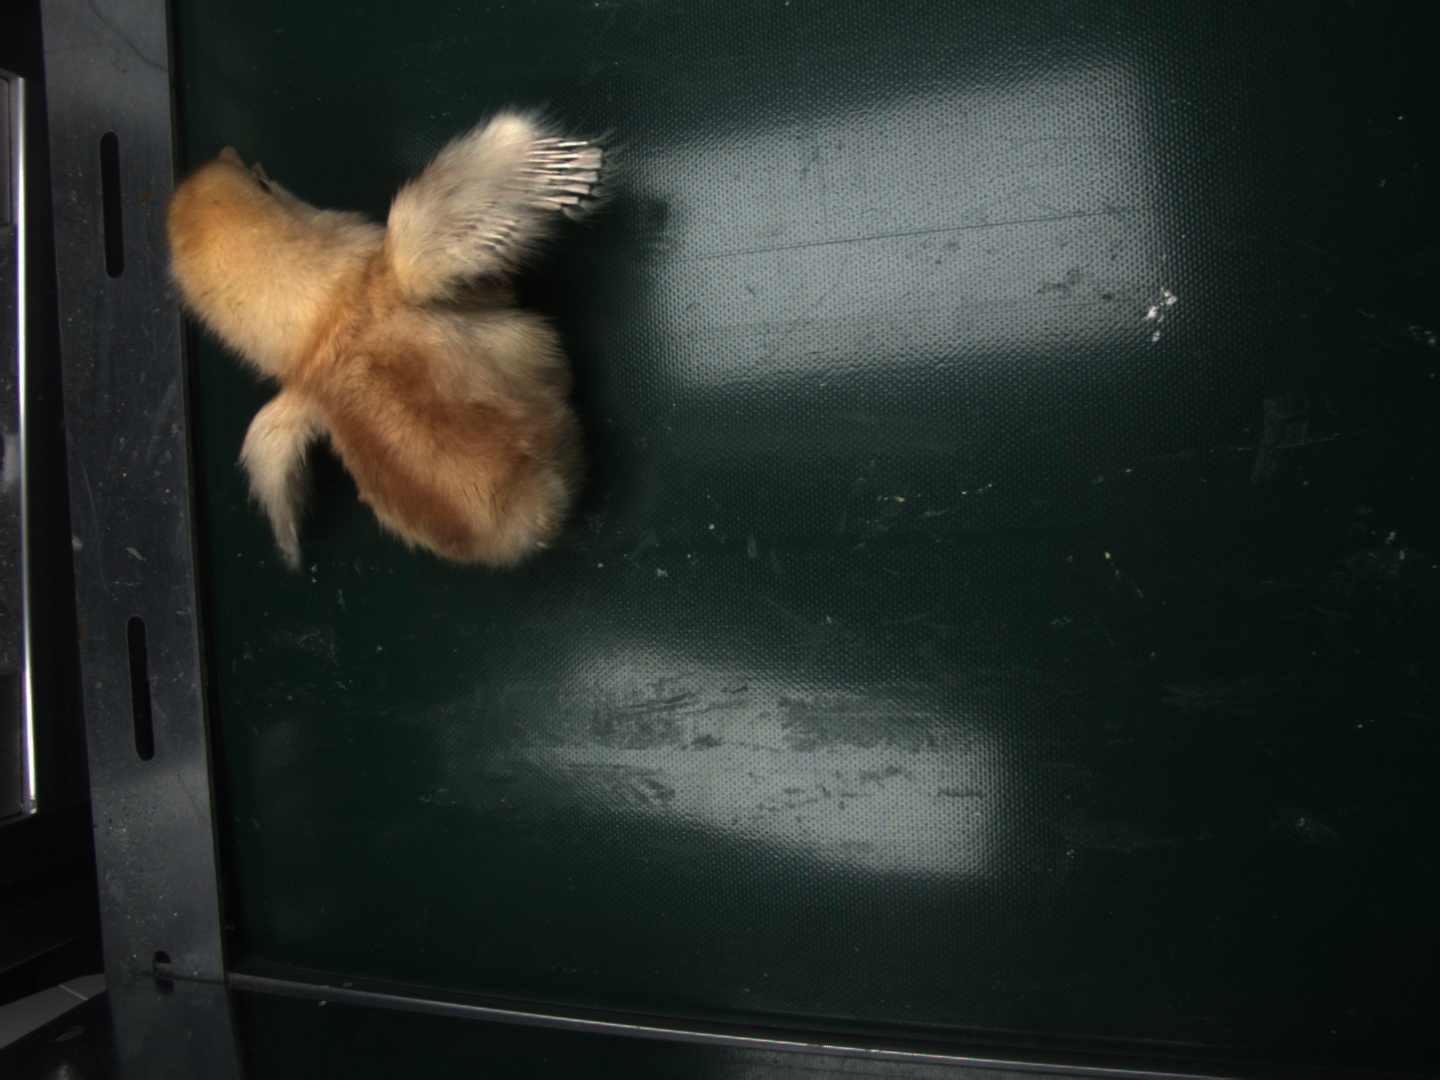female: (525, 135, 607, 214)
